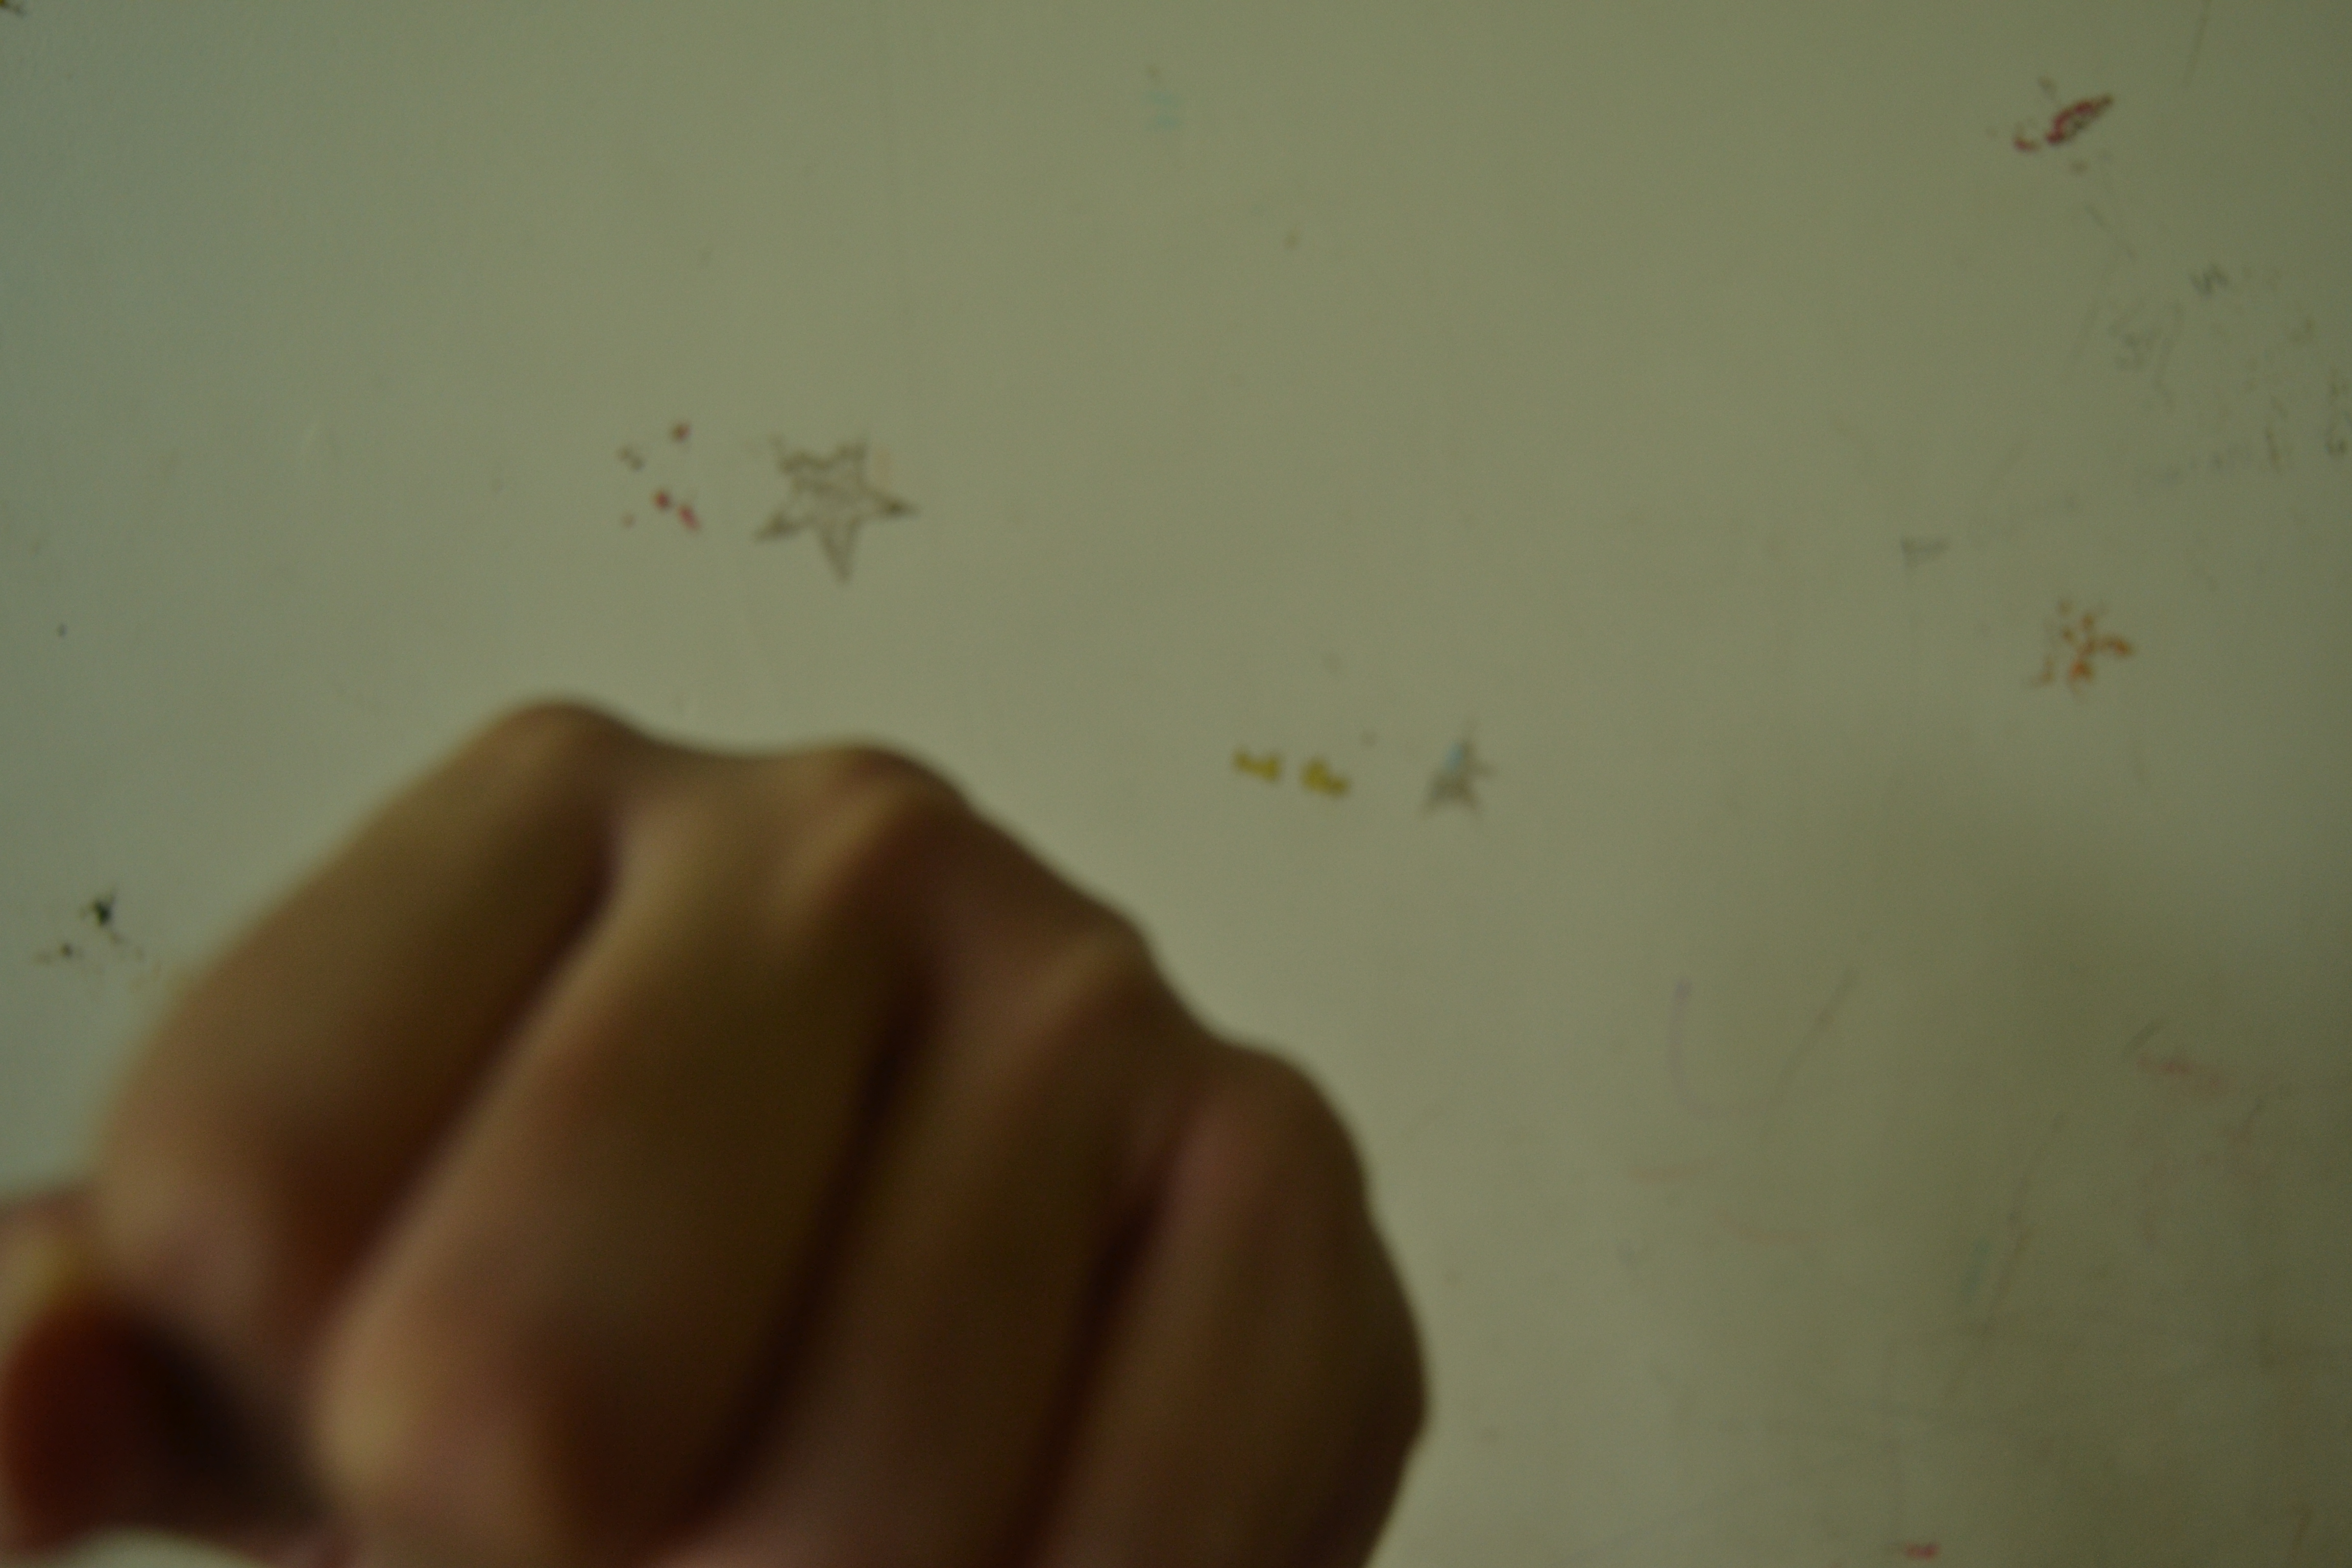click: (63, 684, 1477, 1568)
